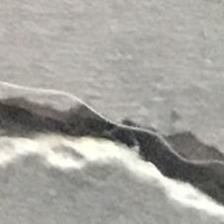Crack: (0, 73, 224, 223)
